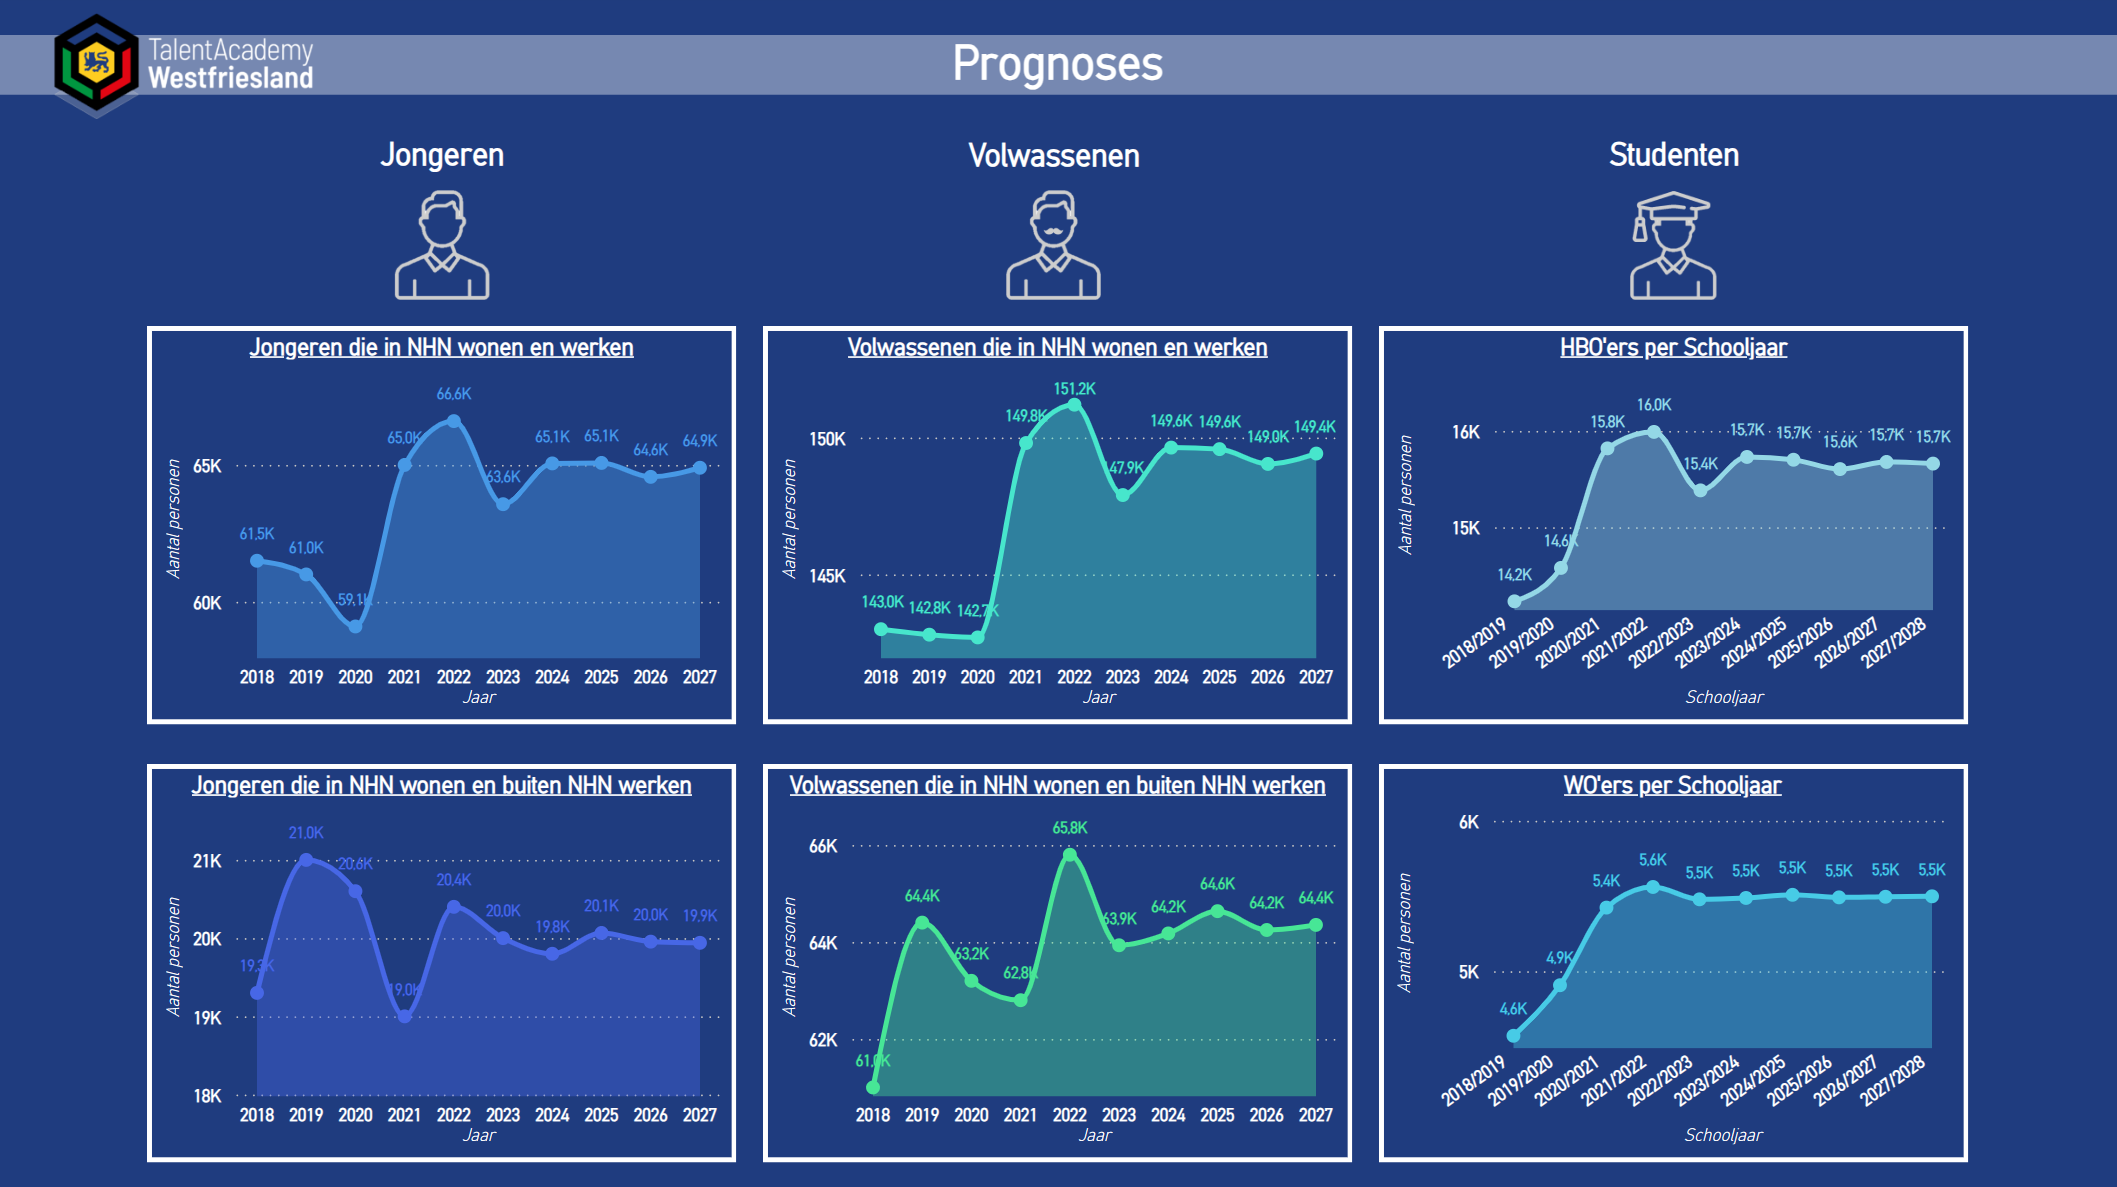

The page's visual inventory and layout, read from the dashboard file:
{"tool":"powerbi","page":{"name":"Prognoses","canvas":[1280,720],"ordinal":2},"visuals":[{"type":"shape","box":[0,23.3,1280,36.3],"z":0},{"type":"image","box":[12.6,5.6,201.7,73.5],"z":1000},{"type":"textbox","box":[551.9,20.1,232.6,67.4],"z":2000},{"type":"textbox","box":[990.7,79.2,102.1,32.9],"z":3000},{"type":"textbox","box":[606.4,79.3,123.6,32.9],"z":4000},{"type":"image","box":[253,112.2,93,76.3],"z":5000},{"type":"image","box":[622.2,112.2,91.9,76.3],"z":6000},{"type":"textbox","box":[252.1,79.2,95,32.9],"z":7000},{"type":"image","box":[995.2,112.2,93,76.3],"z":8000},{"type":"shape","box":[492.7,198.7,355.3,240],"z":9000},{"type":"shape","box":[121.3,198.7,355.3,240],"z":10000},{"type":"shape","box":[864,198.7,355.3,240],"z":11000},{"type":"shape","box":[121.3,462.7,355.3,240],"z":12000},{"type":"shape","box":[492.7,462.7,355.3,240],"z":13000},{"type":"shape","box":[864,462.7,355.3,240],"z":14000},{"type":"areaChart","title":"HBO per Schooljaar","fields":{"Category":["nhn prognoses_studenten.schooljaar"],"Y":["Sum(nhn prognoses_studenten.hbo_aantal)"]},"box":[869.3,203.3,344.7,230],"z":15000},{"type":"areaChart","title":"WO per Schooljaar","fields":{"Category":["nhn prognoses_studenten.schooljaar"],"Y":["Sum(nhn prognoses_studenten.wo_aantal)"]},"box":[868.7,467.3,344.7,230],"z":16000},{"type":"areaChart","title":"Volwassenen die in NHN wonen en werken ","fields":{"Category":["nhn prognoses_professionals.jaar"],"Y":["Sum(nhn prognoses_professionals.volwassen_werk_in_NHN)"]},"box":[498,203.3,344.7,230],"z":17000},{"type":"areaChart","title":"Volwassenen die in NHN wonen en buiten NHN werken ","fields":{"Category":["nhn prognoses_professionals.jaar"],"Y":["Sum(nhn prognoses_professionals.volwassen_werk_buiten_NHN)"]},"box":[498,467.3,344.7,230],"z":18000},{"type":"areaChart","title":"Jongeren die in NHN wonen en werken ","fields":{"Category":["nhn prognoses_professionals.jaar"],"Y":["Sum(nhn prognoses_professionals.jonge_werk_in_NHN)"]},"box":[126.7,203.3,344.7,230],"z":19000},{"type":"areaChart","title":"Jongeren die in NHN wonen en buiten NHN werken ","fields":{"Category":["nhn prognoses_professionals.jaar"],"Y":["Sum(nhn prognoses_professionals.jonge_werk_buiten_NHN)"]},"box":[126.7,467.3,344.7,230],"z":20000}]}

Visuals, with their boxes in screenshot pixels (x1, y1, x2, y2), scaled from the page's 1280x720 canvas onto the 2117x1187 screenshot:
shape: [0, 38, 2116, 98]
image: [21, 9, 354, 130]
textbox: [913, 33, 1297, 144]
textbox: [1639, 131, 1807, 185]
textbox: [1003, 131, 1207, 185]
image: [418, 185, 572, 311]
image: [1029, 185, 1181, 311]
textbox: [417, 131, 574, 185]
image: [1646, 185, 1800, 311]
shape: [815, 328, 1403, 723]
shape: [201, 328, 788, 723]
shape: [1429, 328, 2017, 723]
shape: [201, 763, 788, 1158]
shape: [815, 763, 1403, 1158]
shape: [1429, 763, 2017, 1158]
"HBO per Schooljaar" areaChart: [1438, 335, 2008, 714]
"WO per Schooljaar" areaChart: [1437, 770, 2007, 1150]
"Volwassenen die in NHN wonen en werken " areaChart: [824, 335, 1394, 714]
"Volwassenen die in NHN wonen en buiten NHN werken " areaChart: [824, 770, 1394, 1150]
"Jongeren die in NHN wonen en werken " areaChart: [210, 335, 780, 714]
"Jongeren die in NHN wonen en buiten NHN werken " areaChart: [210, 770, 780, 1150]
